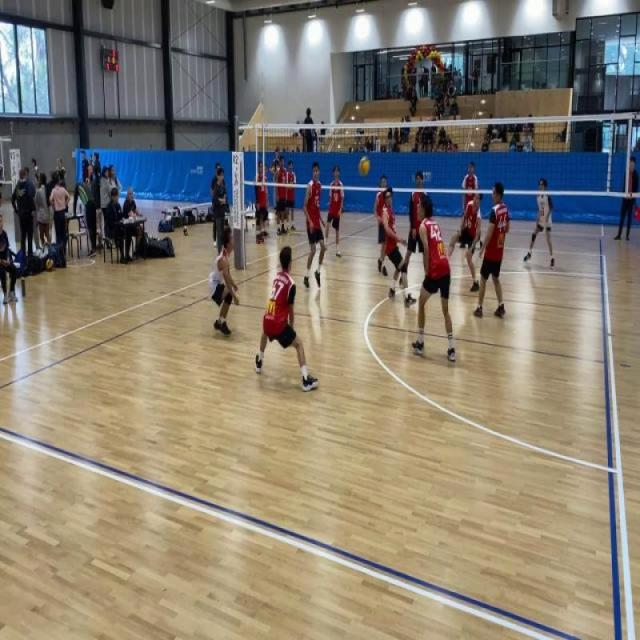volleyball: (358, 154, 370, 178), (45, 257, 54, 272), (182, 226, 189, 237), (148, 234, 154, 241), (156, 236, 161, 242), (85, 178, 89, 185)
